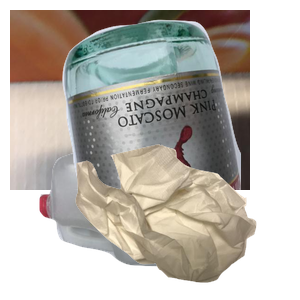cardboard: (10, 10, 250, 190)
glass: (60, 17, 300, 197)
plastic: (37, 147, 254, 300)
trash: (73, 142, 300, 300)
